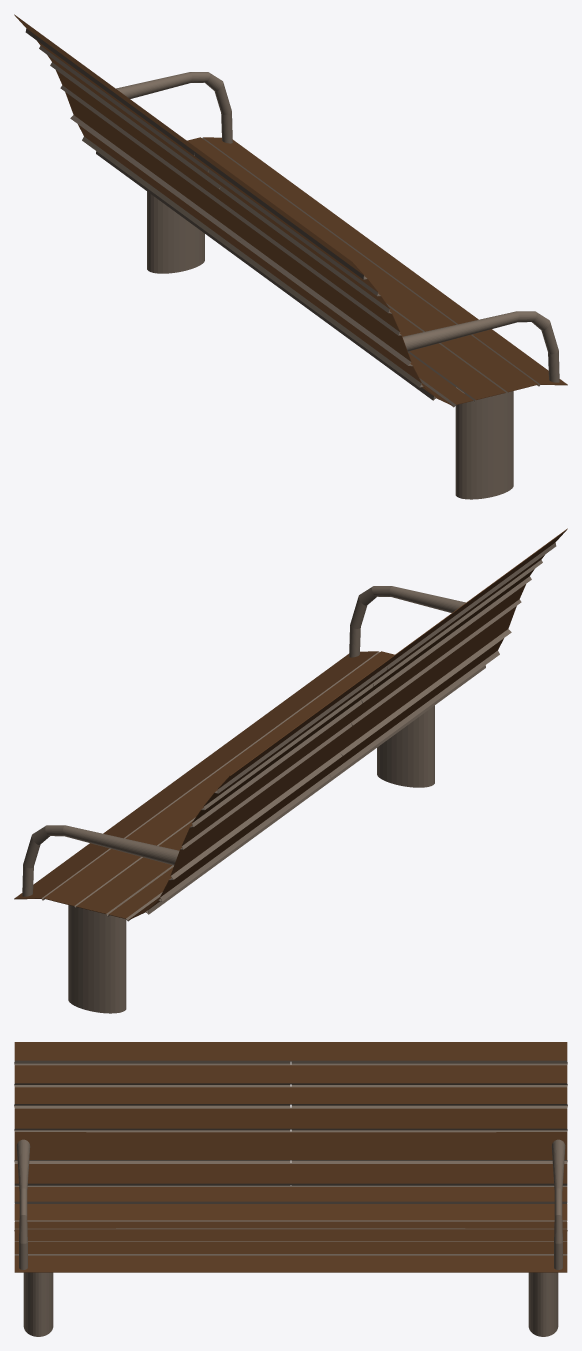
Rendered from Bankje.fbx.
The picture shows the model from 3 angles, top to bottom: view 1: azimuth 30°, elevation 25°; view 2: azimuth 150°, elevation 25°; view 3: azimuth 270°, elevation 25°; orthographic projection. The views are drawn at different scales.
Visible parts, largest first — view 1: Plane, Cylinder, Cylinder.001; view 2: Plane, Cylinder, Cylinder.001; view 3: Plane, Cylinder, Cylinder.001.
Part boxes in pixels (<box>): Plane: <box>14,14,567,407</box>; Cylinder: <box>147,191,513,499</box>; Cylinder.001: <box>116,72,559,382</box>; Plane: <box>14,528,567,921</box>; Cylinder: <box>68,705,434,1013</box>; Cylinder.001: <box>22,586,465,896</box>; Plane: <box>14,1042,567,1272</box>; Cylinder: <box>23,1272,558,1336</box>; Cylinder.001: <box>16,1139,565,1269</box>.
Size of the model in its own units: 402 by 489 by 1090.
